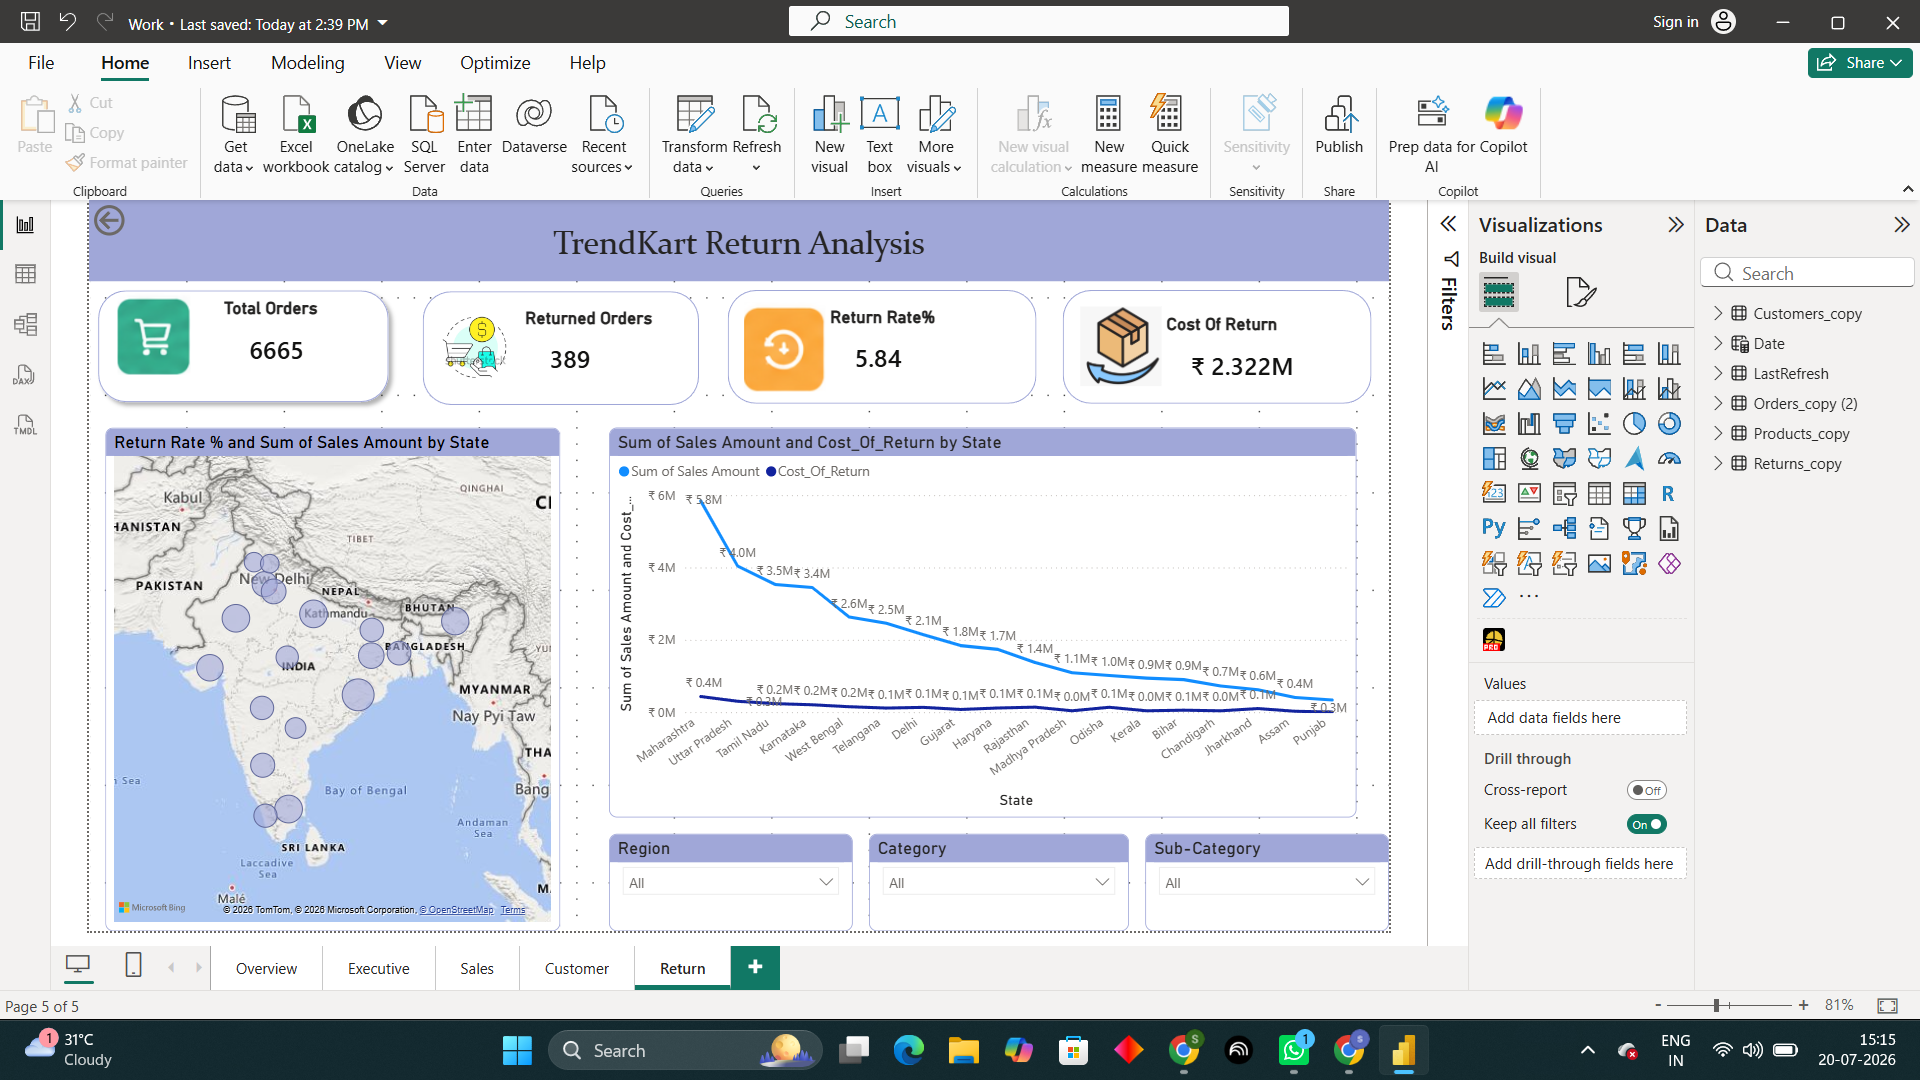

The dashboard page shown, as its layout file describes it:
{"tool":"powerbi","page":{"name":"Return","canvas":[1280,720],"ordinal":4},"visuals":[{"type":"textbox","box":[0,0,1280,80],"z":0},{"type":"map","title":"Return Rate % and Sum of Sales Amount by State","fields":{"Category":["Customers_copy.State"],"Size":["Returns_copy.Return Rate"]},"box":[16,224,448,496],"z":1000},{"type":"slicer","title":"Category","fields":{"Values":["Products_copy.Category"]},"box":[768,624,256,96],"z":2000},{"type":"shape","box":[628.9,88.6,304,112],"z":3000},{"type":"cardVisual","title":"Return Rate%","fields":{"Data":["Returns_copy.Return Rate"]},"box":[724.9,104.6,192,80],"z":4000},{"type":"image","box":[644.9,88.6,80,112],"z":5000},{"type":"shape","box":[328.6,89.4,272,112],"z":6000},{"type":"cardVisual","title":"Returned Orders","fields":{"Data":["CountNonNull(Returns_copy.Order ID)"]},"box":[424.6,105.4,160,80],"z":7000},{"type":"image","box":[344.6,105.4,80,80],"z":8000},{"type":"shape","box":[0,80,304,128],"z":9000},{"type":"image","box":[16,92.1,96,80],"z":10000},{"type":"cardVisual","title":"Total Orders","fields":{"Data":["CountNonNull(Orders_copy (2).Order ID)"]},"box":[128,96,144,80],"z":11000},{"type":"slicer","title":"Sub-Category","fields":{"Values":["Products_copy.Sub-Category"]},"box":[1040,624,240,96],"z":12000},{"type":"slicer","title":"Region","fields":{"Values":["Customers_copy.Region"]},"box":[512,624,240,96],"z":13000},{"type":"shape","box":[958.7,88.3,304,112],"z":14000},{"type":"cardVisual","title":"Cost Of Return ","fields":{"Data":["Returns_copy.Cost_Of_Return"]},"box":[1056,112,192,80],"z":15000},{"type":"image","box":[976,96,80,96],"z":16000},{"type":"lineChart","fields":{"Category":["Customers_copy.State"],"Y":["Sum(Orders_copy (2).Sales Amount)","Returns_copy.Cost_Of_Return"]},"box":[512,224,736,384],"z":17000},{"type":"actionButton","box":[0,0,100,40],"z":18000}]}

Visuals, with their boxes on the page's 1280x720 design canvas (x1, y1, x2, y2). These are canvas units, not pixel positions in the 1920x1080 screenshot, which may show the page scaled, cropped or inside an application window:
textbox: 0,0,1280,80
"Return Rate % and Sum of Sales Amount by State" map: 16,224,464,720
"Category" slicer: 768,624,1024,720
shape: 629,89,933,201
"Return Rate%" cardVisual: 725,105,917,185
image: 645,89,725,201
shape: 329,89,601,201
"Returned Orders" cardVisual: 425,105,585,185
image: 345,105,425,185
shape: 0,80,304,208
image: 16,92,112,172
"Total Orders" cardVisual: 128,96,272,176
"Sub-Category" slicer: 1040,624,1280,720
"Region" slicer: 512,624,752,720
shape: 959,88,1263,200
"Cost Of Return " cardVisual: 1056,112,1248,192
image: 976,96,1056,192
lineChart - Customers_copy.State x Sum(Orders_copy (2).Sales Amount): 512,224,1248,608
actionButton: 0,0,100,40
